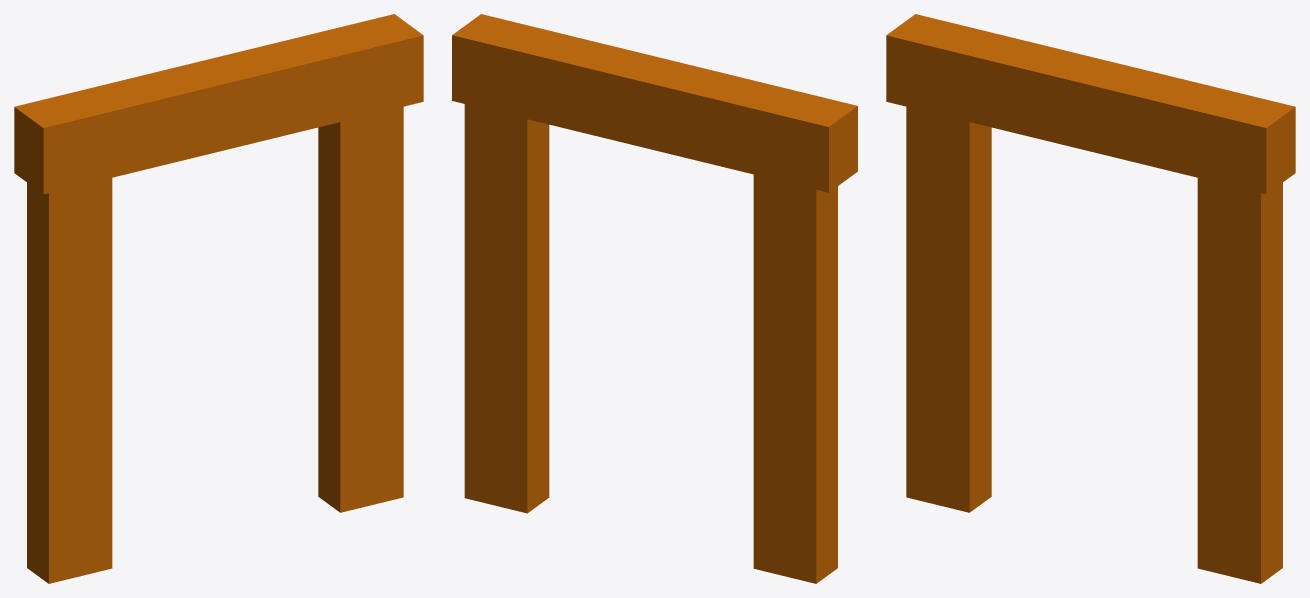
Rendered from portal_egypt.obj.
The picture shows the model from 3 angles, left to right: view 1: azimuth 30°, elevation 25°; view 2: azimuth 150°, elevation 25°; view 3: azimuth 330°, elevation 25°; orthographic projection.
Visible parts, largest first — view 1: Plane; view 2: Plane; view 3: Plane.
Part boxes in pixels (x1,y1,x2,y2): Plane: (14, 14, 423, 583); Plane: (452, 14, 857, 583); Plane: (886, 14, 1295, 583).
Size of the model in its own units: 3 by 3.5 by 0.4.
